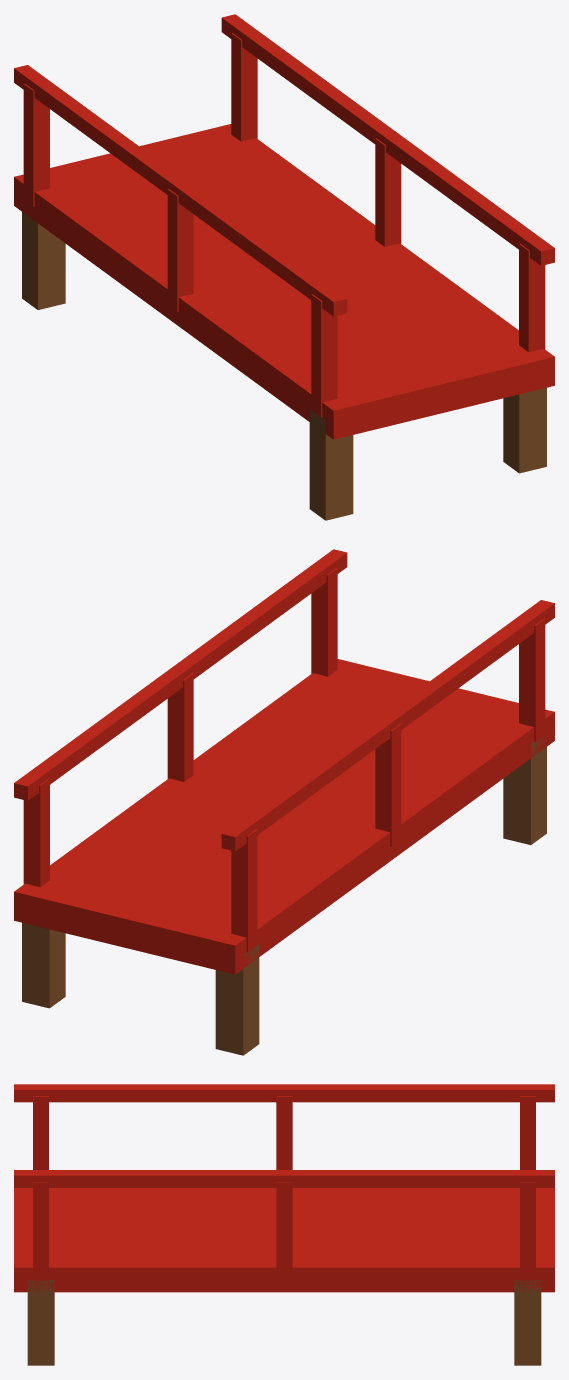
The model's file is wooden_bridge.glb.
The picture shows the model from 3 angles, top to bottom: view 1: azimuth 30°, elevation 25°; view 2: azimuth 150°, elevation 25°; view 3: azimuth 270°, elevation 25°; orthographic projection. The views are drawn at different scales.
Parts seen in each view (by area): view 1: wooden_bridge; view 2: wooden_bridge; view 3: wooden_bridge.
Boxes of the visible parts, left/top/right/bottom form: wooden_bridge: left=14, top=14, right=554, bottom=520; wooden_bridge: left=14, top=549, right=554, bottom=1055; wooden_bridge: left=14, top=1084, right=554, bottom=1365.
Size of the model in its own units: 1.62 by 1.55 by 4.
